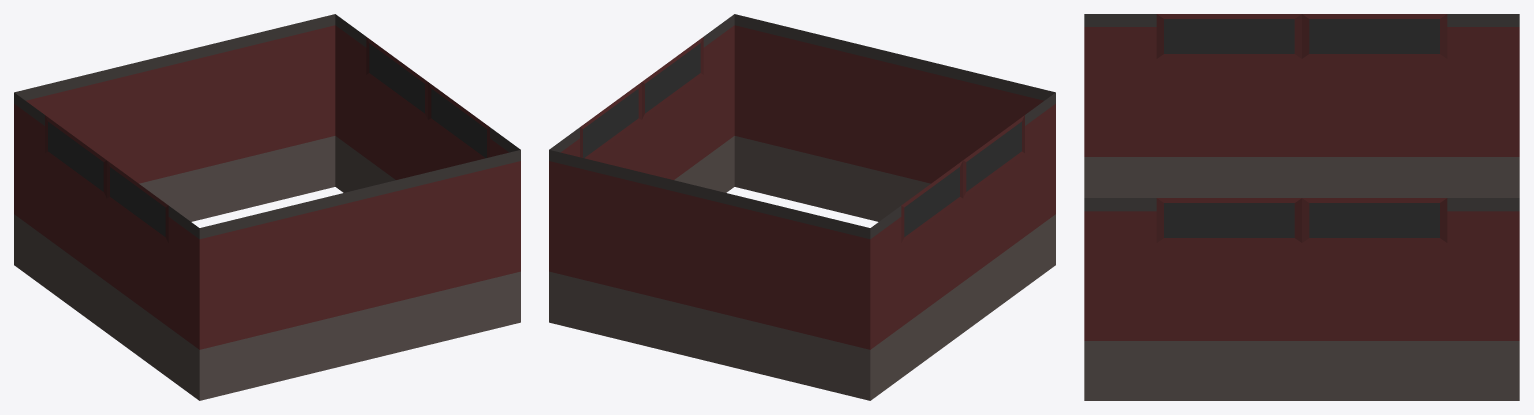
File: StackA-Sm_CLOD2.fbx
3 renders of one model, left to right at view 1: azimuth 30°, elevation 25°; view 2: azimuth 150°, elevation 25°; view 3: azimuth 270°, elevation 25°, orthographic. The views are drawn at different scales.
Visible parts, largest first — view 1: StackA-Sm_CLOD2; view 2: StackA-Sm_CLOD2; view 3: StackA-Sm_CLOD2.
Boxes of the visible parts, x1=… form: StackA-Sm_CLOD2: x1=14, y1=14, x2=520, y2=400; StackA-Sm_CLOD2: x1=549, y1=14, x2=1055, y2=400; StackA-Sm_CLOD2: x1=1084, y1=14, x2=1519, y2=400.
Size of the model in its own units: 750 by 386 by 750.
